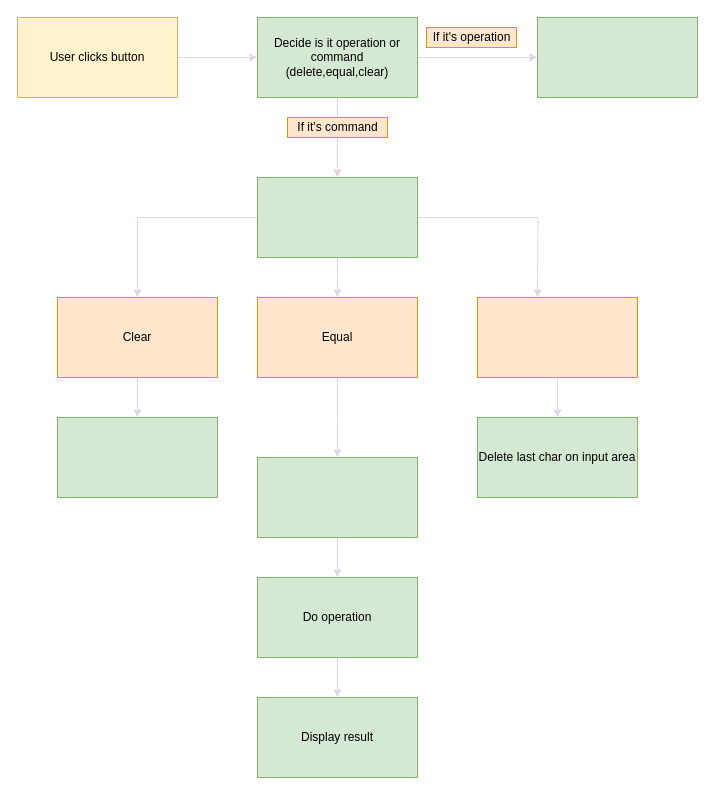
Image size: 715x795. Some labels were removed from this diagram. The shapes that lost their labels are listed below. From the top down, each one's box as (x1, y1, x2, y2) in pixels, then its label:
(536, 16, 698, 98): Display operation sign or number on input
(256, 176, 418, 258): Decide what kind of command
(476, 296, 638, 378): Delete
(56, 416, 218, 498): Clear input area
(256, 456, 418, 538): Read sign and numbers from input
